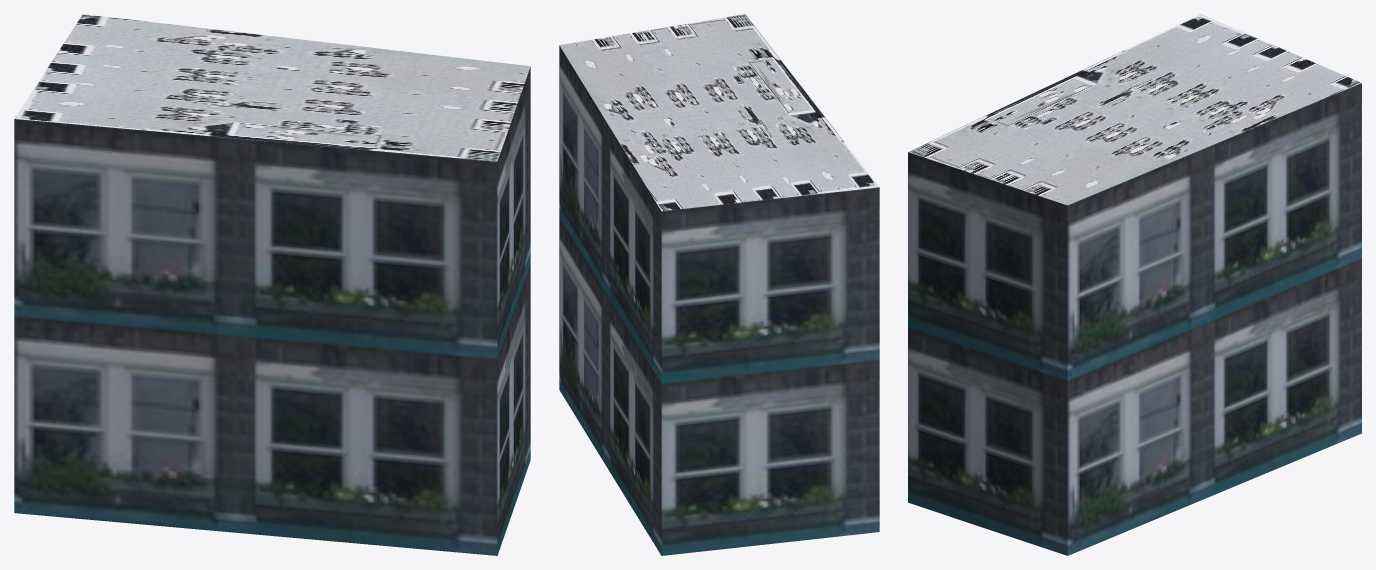
The model's file is ResTex__4315.fbx.
3 views of the same model, side by side, from view 1: azimuth 30°, elevation 25°; view 2: azimuth 150°, elevation 25°; view 3: azimuth 270°, elevation 25° (orthographic). The views are drawn at different scales.
Parts seen in each view (by area): view 1: CityEngineMaterial_11_m, CityEngineMaterial_8_m; view 2: CityEngineMaterial_11_m, CityEngineMaterial_8_m; view 3: CityEngineMaterial_11_m, CityEngineMaterial_8_m.
Part boxes in pixels (box(x1,y1,x2,y2)): CityEngineMaterial_11_m: box(14, 67, 530, 555); CityEngineMaterial_8_m: box(14, 14, 530, 161); CityEngineMaterial_11_m: box(559, 45, 879, 555); CityEngineMaterial_8_m: box(559, 14, 878, 211); CityEngineMaterial_11_m: box(908, 83, 1361, 555); CityEngineMaterial_8_m: box(908, 14, 1361, 205).
Bounding box in the file's own units: 7.03 × 6 × 7.04.
Materials: 2 (2 with a texture image).
